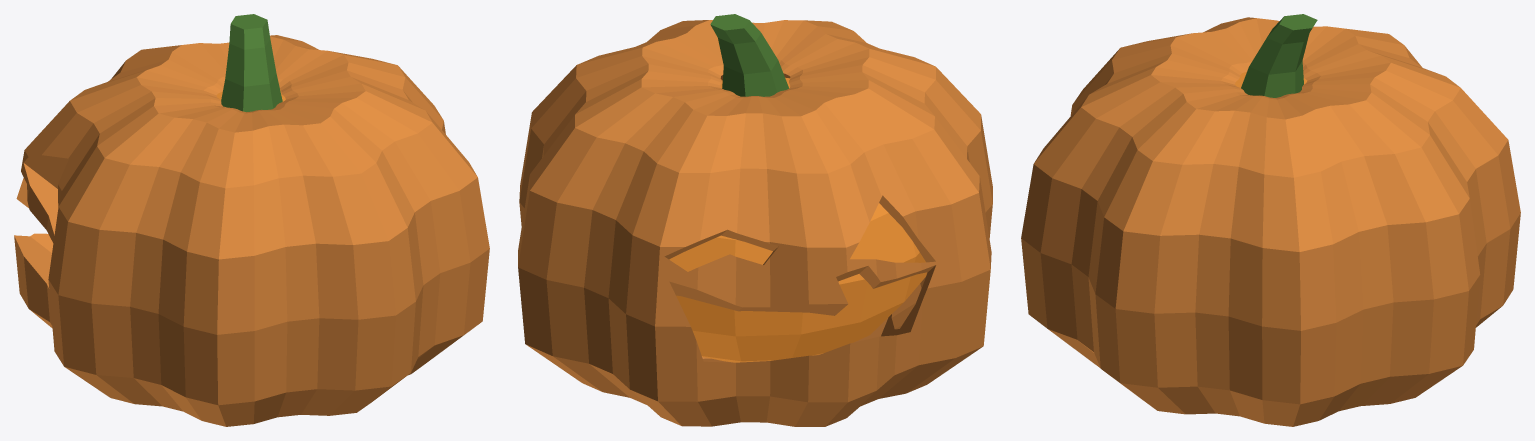
Rendered from PumpkinLanternWink.glb.
3 views of the same model, side by side, from view 1: azimuth 30°, elevation 25°; view 2: azimuth 150°, elevation 25°; view 3: azimuth 270°, elevation 25° (orthographic). The views are drawn at different scales.
Parts seen in each view (by area): view 1: PumpkinLanternWink_Body, PumpkinLanternWink_Stem; view 2: PumpkinLanternWink_Body, PumpkinLanternWink_Glow, PumpkinLanternWink_Stem; view 3: PumpkinLanternWink_Body, PumpkinLanternWink_Stem.
Part boxes in pixels (x1,y1,x2,y2): PumpkinLanternWink_Body: (14,35,489,426); PumpkinLanternWink_Stem: (221,14,282,111); PumpkinLanternWink_Body: (518,20,992,426); PumpkinLanternWink_Glow: (669,77,926,362); PumpkinLanternWink_Stem: (710,14,789,96); PumpkinLanternWink_Body: (1021,17,1520,426); PumpkinLanternWink_Stem: (1241,14,1317,97).
Size of the model in its own units: 0.695 by 0.5457 by 0.695.
